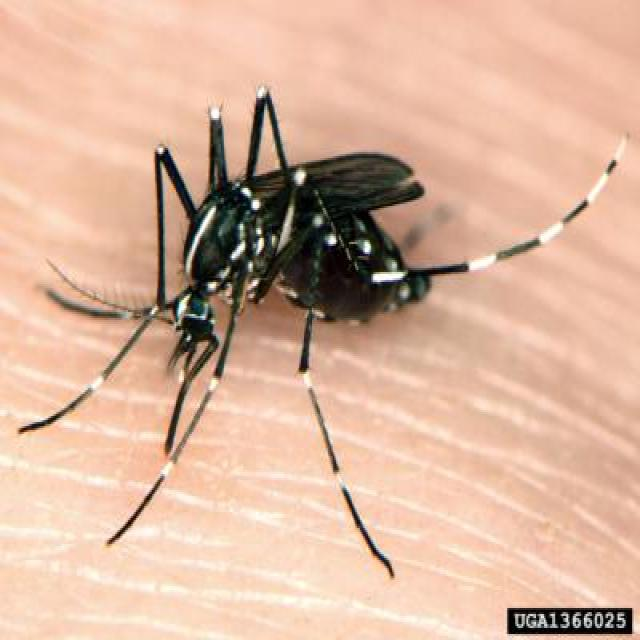antennae: (42, 250, 178, 333)
body: (175, 152, 429, 347)
insect: (20, 82, 628, 578)
legs: (20, 126, 194, 444), (347, 115, 628, 277), (299, 243, 395, 578), (142, 85, 288, 198)
mouthpart: (158, 333, 219, 454)
wings: (235, 153, 426, 211)
